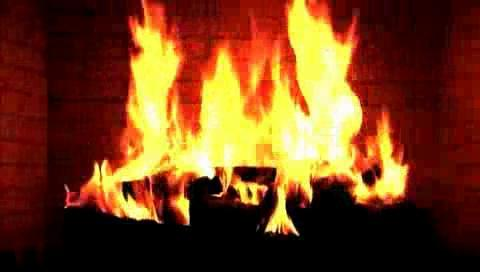fire: (62, 0, 410, 237)
